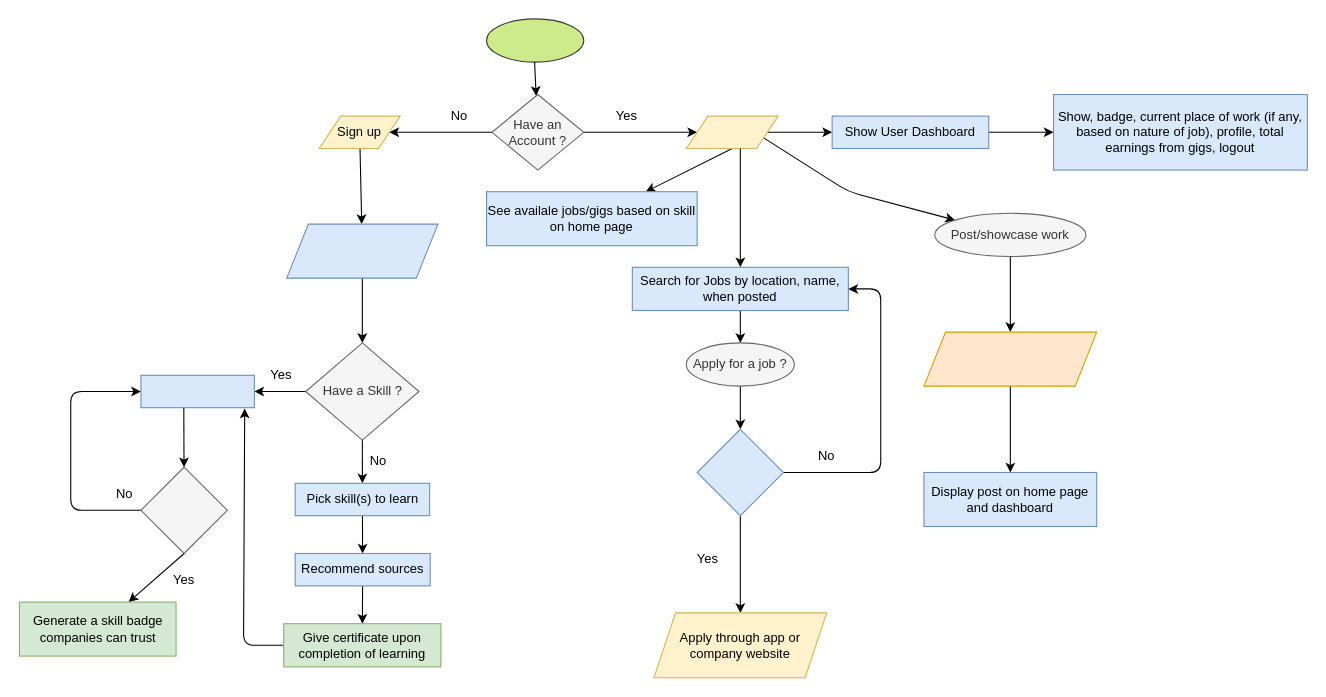
Some shapes in this 1326 by 697 pixel diagram are drawn without their labels. Here are the shapes that lost their labels. From the top down, the centre of each, then its label:
(534,40): Start
(731,131): Login
(362,250): Enter bio, skills, experience, links (portfolios)
(1010,358): Upload writeup, videos, photos and work
(197,391): Take a quick test
(740,472): Proceed ?
(183,510): Pass ?
